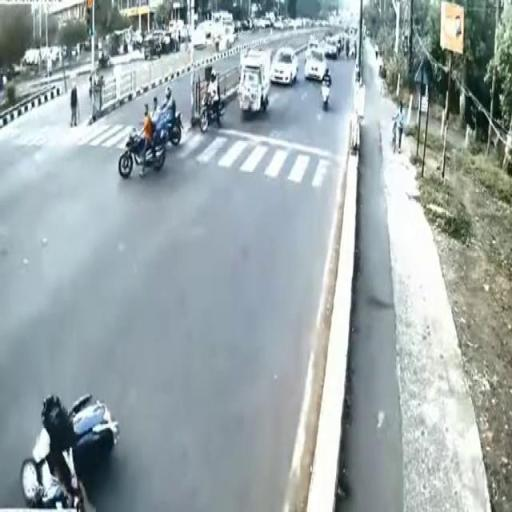小汽车: (241, 54, 270, 118), (268, 46, 298, 84)
自行车: (118, 100, 167, 178), (195, 70, 228, 130)
